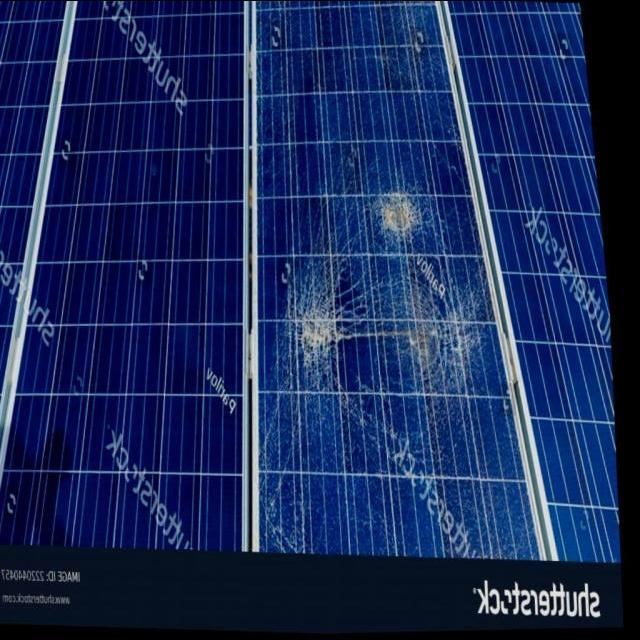cracked: (244, 2, 537, 560)
